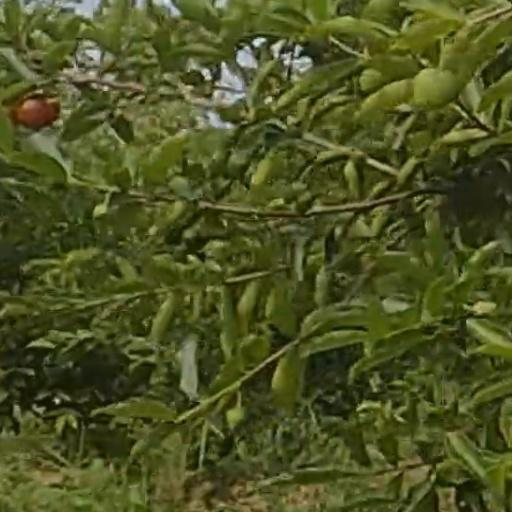acerola_verde: (414, 69, 456, 105)
acerola_vermelha: (15, 96, 61, 128)
